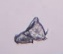microplastic: (13, 16, 50, 45)
